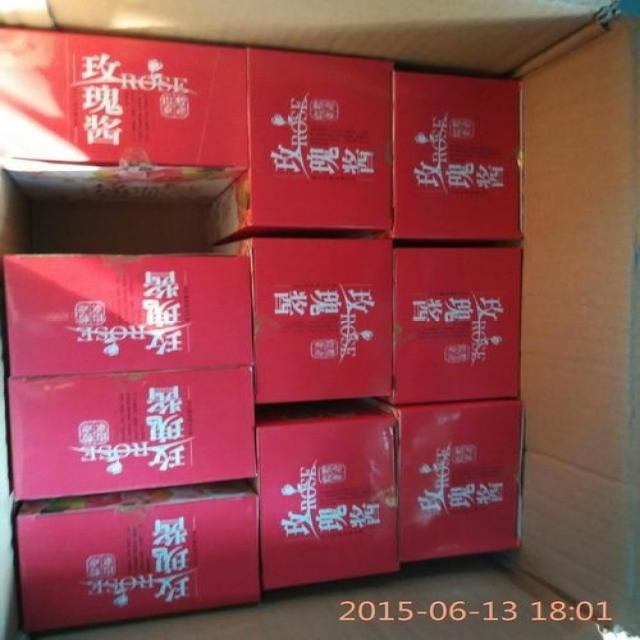box: (0, 26, 249, 206), (206, 47, 394, 246), (15, 479, 261, 620), (10, 365, 257, 501), (1, 250, 253, 378), (210, 238, 393, 403), (246, 397, 400, 589), (356, 395, 524, 564), (373, 239, 523, 404), (393, 72, 523, 239)
